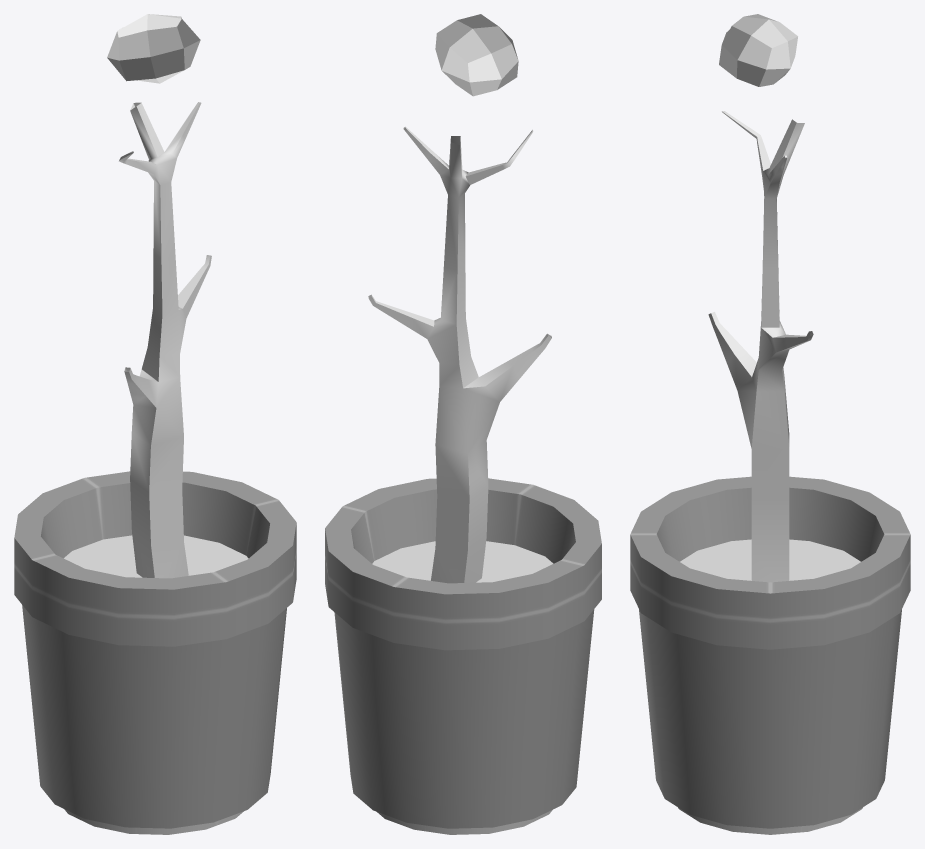
Rendered from small_tree_pot.fbx.
3 renders of one model, left to right at view 1: azimuth 30°, elevation 25°; view 2: azimuth 150°, elevation 25°; view 3: azimuth 270°, elevation 25°, orthographic.
Visible parts, largest first — view 1: small_tree_pot_better; view 2: small_tree_pot_better; view 3: small_tree_pot_better.
Boxes of the visible parts, x1,y1,x2,y2 form: small_tree_pot_better: (14, 14, 296, 834); small_tree_pot_better: (325, 14, 601, 834); small_tree_pot_better: (630, 14, 910, 834).
Bounding box in the file's own units: 55.45 × 168 × 55.45.
